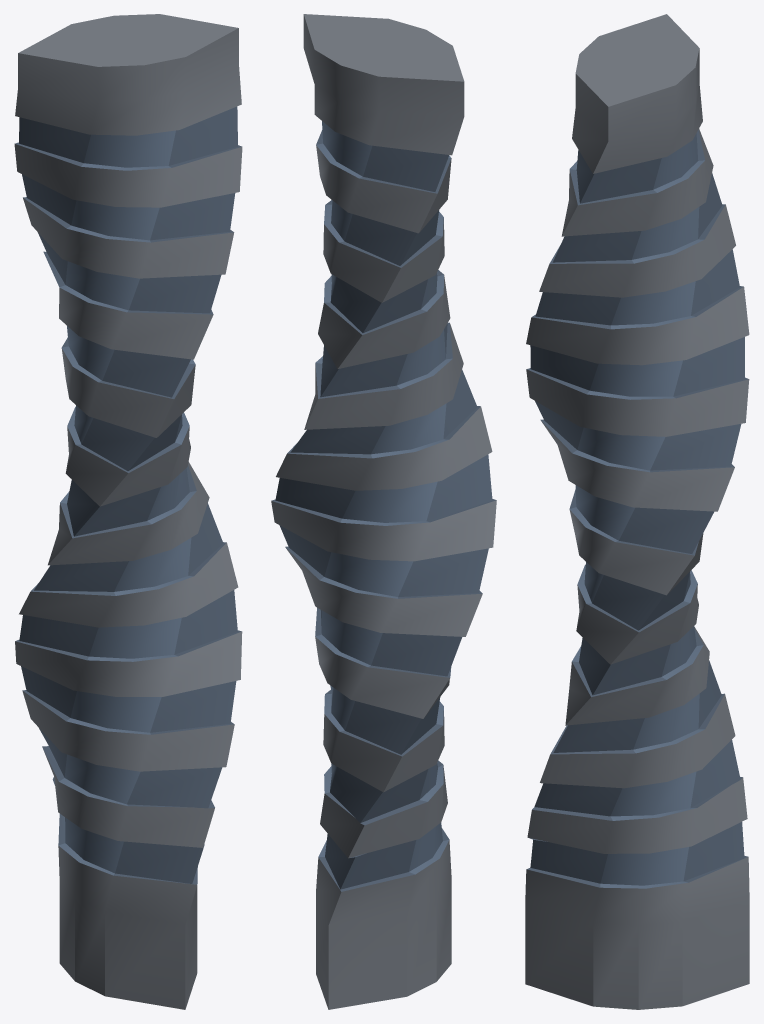
File: Tall1.fbx
3 views of the same model, side by side, from view 1: azimuth 30°, elevation 25°; view 2: azimuth 150°, elevation 25°; view 3: azimuth 270°, elevation 25° (orthographic).
Visible parts, largest first — view 1: pCylinder1; view 2: pCylinder1; view 3: pCylinder1.
Boxes of the visible parts, bbox=[...] form: pCylinder1: bbox=[14, 14, 242, 1009]; pCylinder1: bbox=[271, 14, 496, 1009]; pCylinder1: bbox=[525, 14, 749, 1009].
Size of the model in its own units: 11.77 by 52.73 by 11.61.
